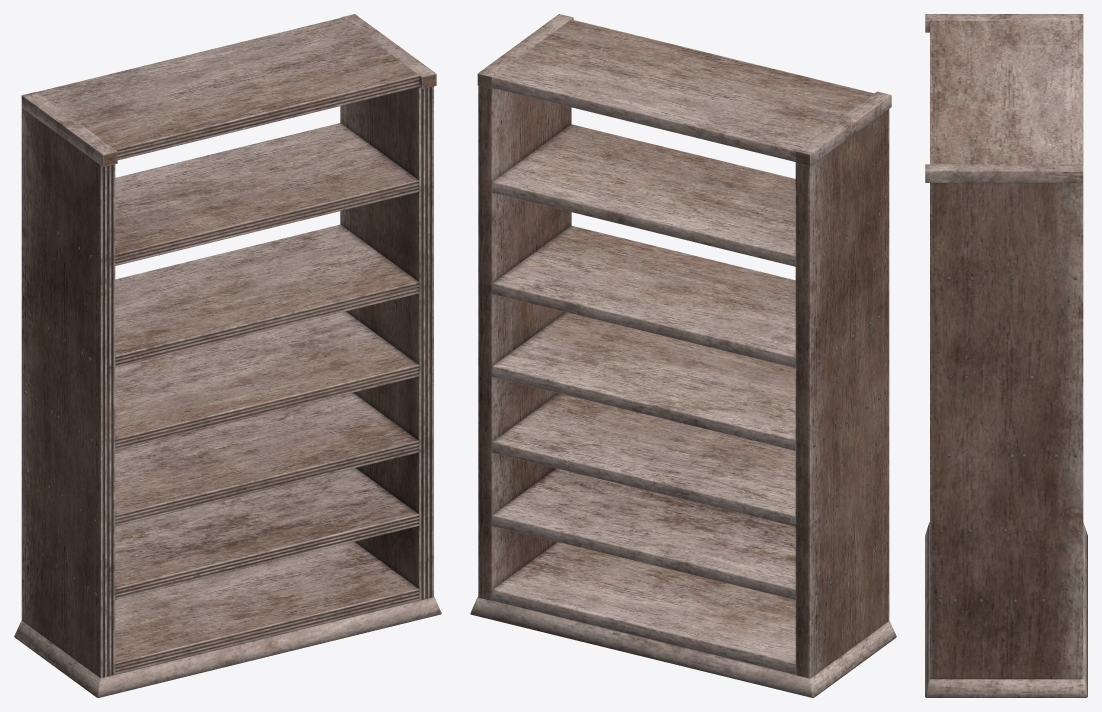
The picture shows the model from 3 angles, left to right: view 1: azimuth 30°, elevation 25°; view 2: azimuth 150°, elevation 25°; view 3: azimuth 270°, elevation 25°; orthographic projection. The views are drawn at different scales.
Parts seen in each view (by area): view 1: wooden_bookshelf_worn; view 2: wooden_bookshelf_worn; view 3: wooden_bookshelf_worn.
Boxes of the visible parts, x1,y1,x2,y2 form: wooden_bookshelf_worn: [14, 14, 441, 697]; wooden_bookshelf_worn: [470, 14, 896, 697]; wooden_bookshelf_worn: [925, 14, 1087, 697].
Bounding box in the file's own units: 1.37 × 2.06 × 0.5813.
Materials: 1 (1 with a texture image).
